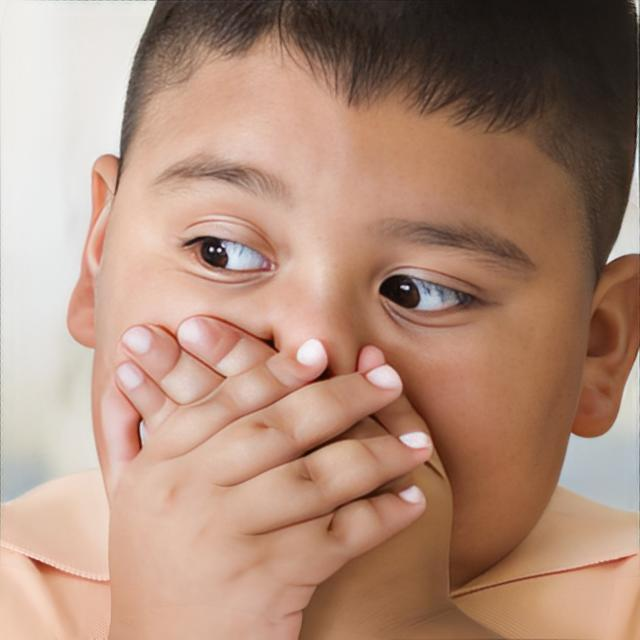surprise: (94, 2, 596, 604)
